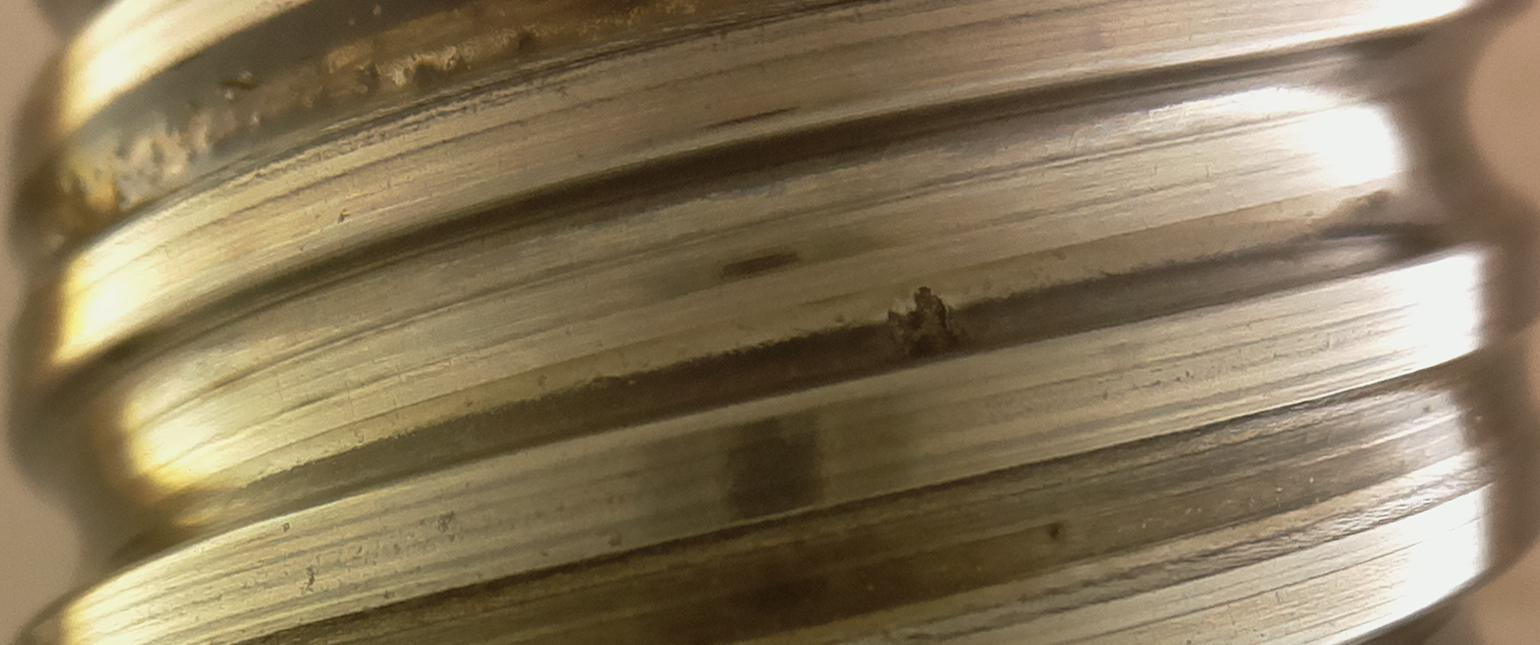pitting: (888, 287, 971, 362)
